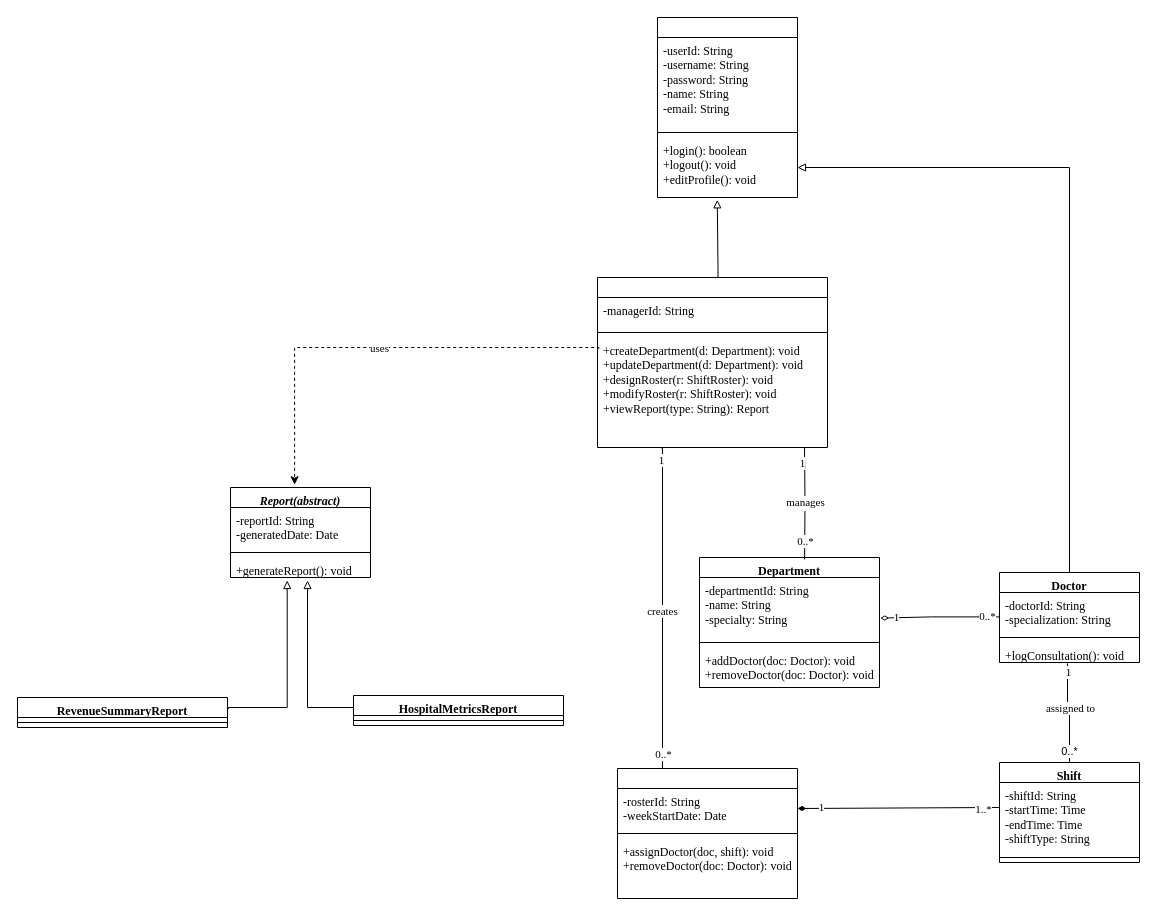
The diagram is 1157 pixels wide and 919 high, and some of its shapes have lost their labels. The box of each missing label's shape, as (x1, y1, x2, y2) in pixels:
MedicalManager: (596, 276, 828, 448)
ShiftRoster: (616, 768, 798, 898)
User(abstract): (656, 16, 798, 198)
